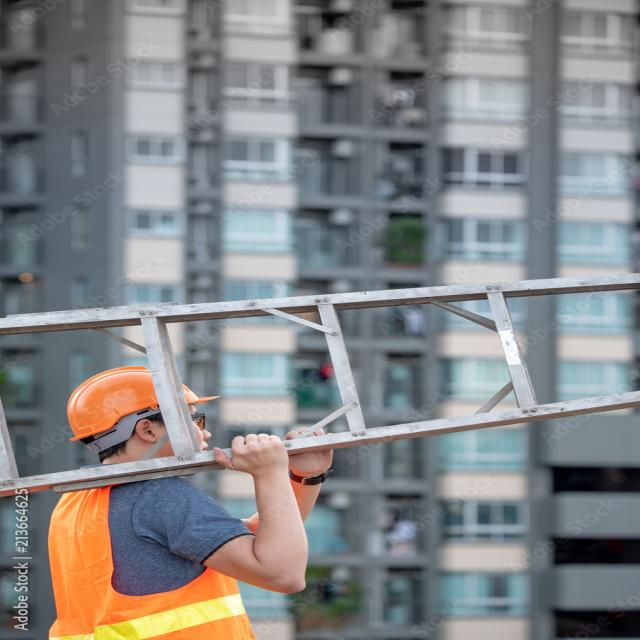helmet: (61, 362, 222, 454)
vest: (42, 471, 263, 640)
